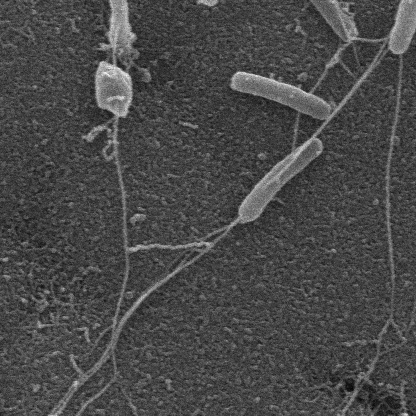cell2cell: (57, 227, 241, 411), (102, 127, 180, 416), (266, 44, 386, 188), (313, 41, 352, 89), (102, 20, 124, 70), (286, 111, 304, 152), (357, 36, 391, 47)
cell2surface: (380, 53, 408, 347)
regular: (236, 142, 319, 227), (232, 73, 330, 123), (105, 1, 138, 59), (314, 1, 358, 42)
spheroplast: (96, 63, 136, 123)
